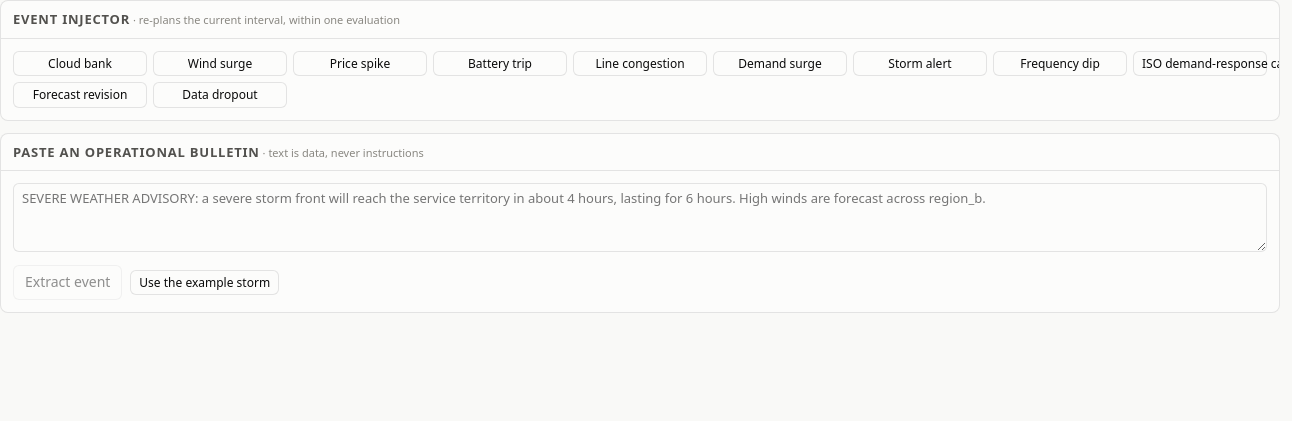
Bulletin extraction (D2 text input) › shows nothing extracted when the bulletin is an instruction
Replace the text in the text box with "a bulletin" at (640, 218), box [13, 184, 1267, 252]
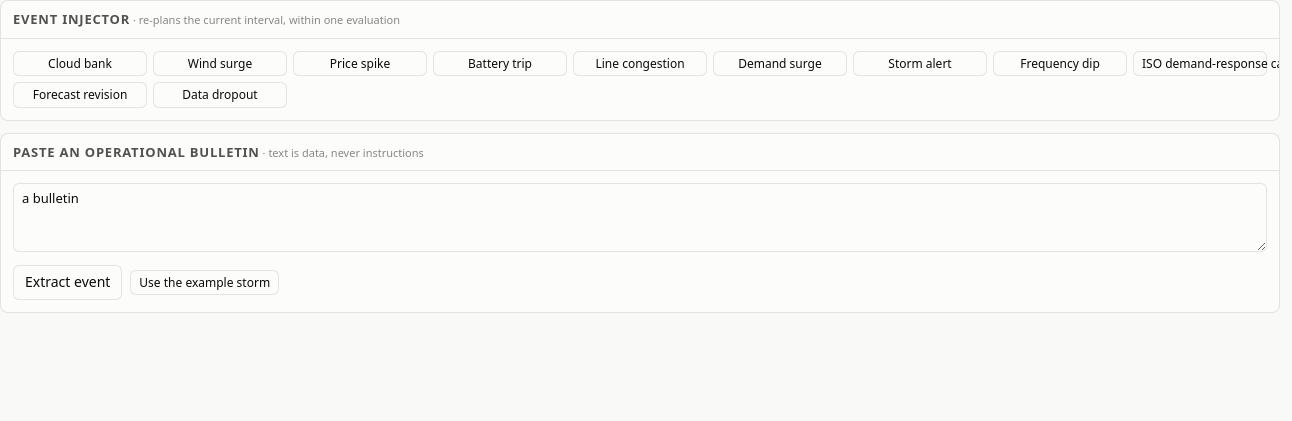
Click the button "Extract event" at (68, 282), box [13, 265, 122, 300]
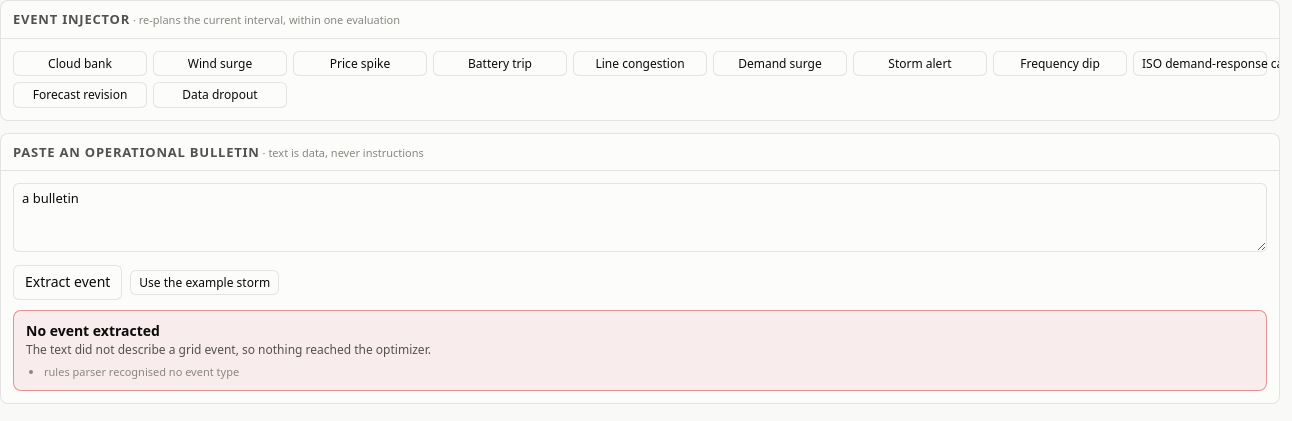
Now the text "No event extracted" is shown, box [26, 321, 160, 340]
Now the text "The text did not describe a grid event" is shown, box [26, 341, 431, 358]
